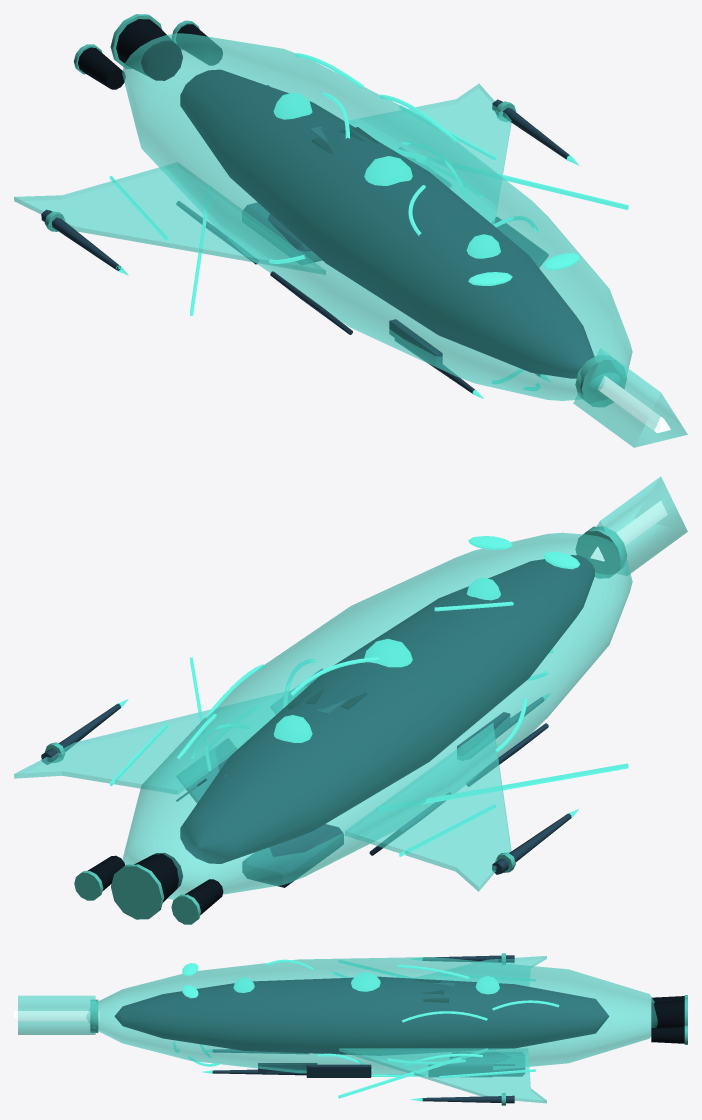
The model's file is refleks-swietlisci-trade-19-lod0.glb.
The picture shows the model from 3 angles, top to bottom: view 1: azimuth 30°, elevation 25°; view 2: azimuth 150°, elevation 25°; view 3: azimuth 270°, elevation 25°; orthographic projection. The views are drawn at different scales.
Size of the model in its own units: 9.17 by 3.06 by 17.91.
